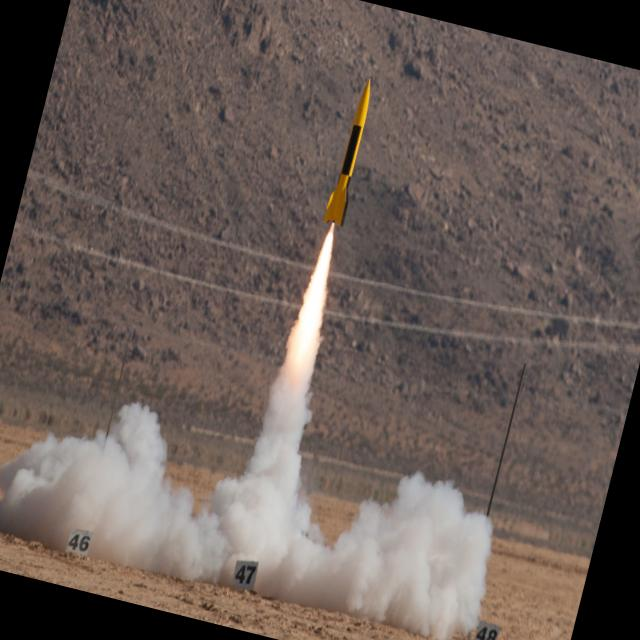rocket: (286, 75, 384, 365)
